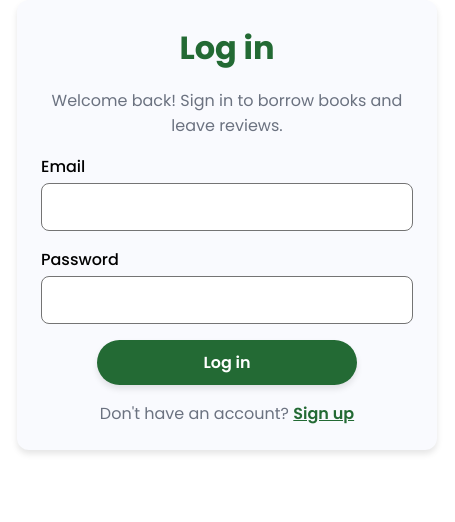
Scenario: LoginPage (integration) › shows inline validation errors when submitting with empty fields
Click the button "Log in".
click(227, 362)  # box [97, 340, 357, 385]
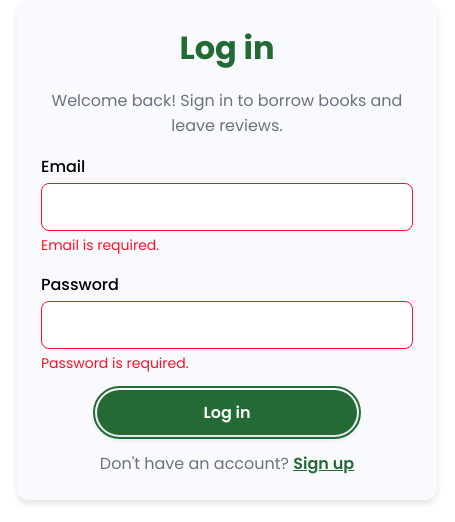
Expected: the text "Email is required." is shown, [41, 235, 159, 255]
Expected: the text "Password is required." is shown, [41, 353, 189, 373]
